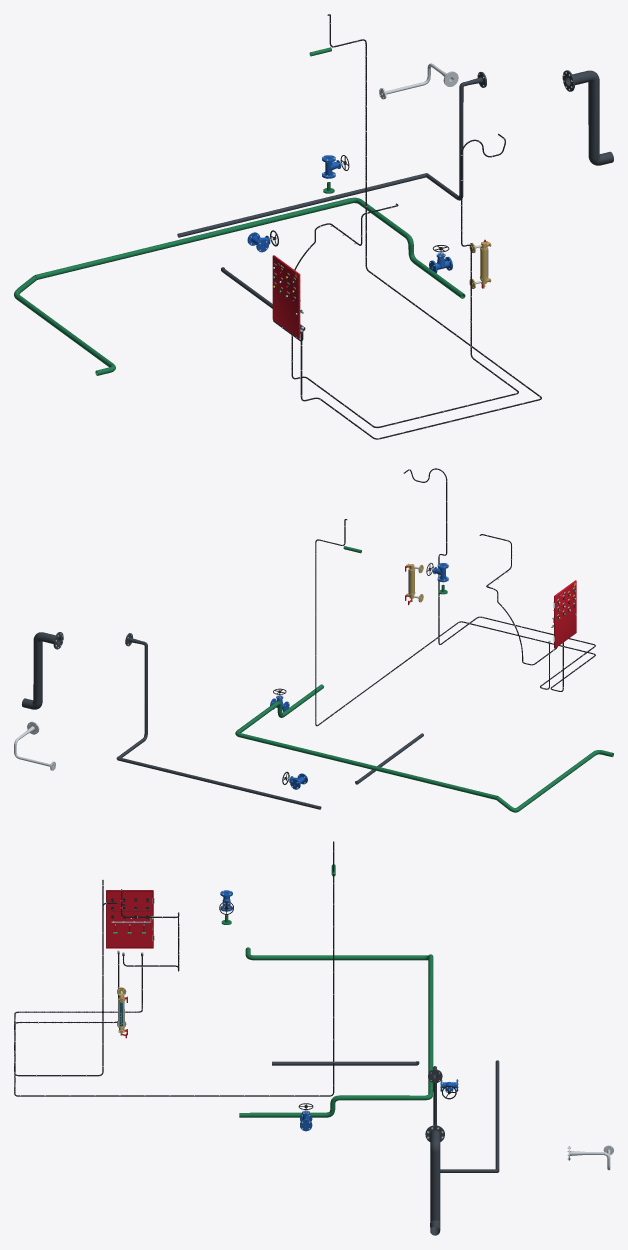
The model's file is s4000-3-BEzdqiLH.glb.
The picture shows the model from 3 angles, top to bottom: view 1: azimuth 30°, elevation 25°; view 2: azimuth 150°, elevation 25°; view 3: azimuth 270°, elevation 25°; orthographic projection. The views are drawn at different scales.
Visible parts, largest first — view 1: suction_common / green, cabinet_door / cabinet_door_5.npz, mod_direct_drive_cable / black, bdv_water_drain / dark, wiring_pressure_switch_3 / black, bottom_discharge / dark, deaerator_feed / green, bottom_to_bdv / dark, fv_to_trap_gap / steel; view 2: suction_common / green, cabinet_door / cabinet_door_5.npz, mod_direct_drive_cable / black, bdv_water_drain / dark, wiring_pressure_switch_3 / black, bottom_discharge / dark, deaerator_feed / green, bottom_to_bdv / dark; view 3: cabinet_door / cabinet_door_5.npz, suction_common / green, mod_direct_drive_cable / black, bdv_water_drain / dark, deaerator_feed / green, wiring_pressure_switch_3 / black, bottom_piping / dark, bottom_to_bdv / dark, bottom_discharge / dark.
Part boxes in pixels (x1,y1,x2,y2): suction_common / green: (35, 197, 465, 298); cabinet_door / cabinet_door_5.npz: (272, 255, 300, 338); mod_direct_drive_cable / black: (300, 14, 541, 439); bdv_water_drain / dark: (562, 70, 613, 165); wiring_pressure_switch_3 / black: (291, 133, 518, 427); bottom_discharge / dark: (177, 173, 426, 237); deaerator_feed / green: (14, 275, 115, 375); bottom_to_bdv / dark: (426, 72, 486, 200); fv_to_trap_gap / steel: (379, 63, 458, 99); suction_common / green: (235, 684, 498, 799); cabinet_door / cabinet_door_5.npz: (553, 580, 576, 648); mod_direct_drive_cable / black: (315, 519, 595, 726); bdv_water_drain / dark: (22, 632, 63, 709); wiring_pressure_switch_3 / black: (403, 468, 595, 689); bottom_discharge / dark: (117, 757, 321, 809); deaerator_feed / green: (496, 750, 613, 812); bottom_to_bdv / dark: (116, 633, 147, 759); cabinet_door / cabinet_door_5.npz: (106, 890, 154, 948); suction_common / green: (239, 954, 433, 1117); mod_direct_drive_cable / black: (14, 841, 334, 1096); bdv_water_drain / dark: (425, 1125, 444, 1235); deaerator_feed / green: (245, 947, 433, 960); wiring_pressure_switch_3 / black: (14, 880, 142, 1076); bottom_piping / dark: (272, 1061, 419, 1065); bottom_to_bdv / dark: (428, 1066, 497, 1172); bottom_discharge / dark: (495, 1060, 499, 1172).
Size of the model in its own units: 7.22 by 3.14 by 6.74.
